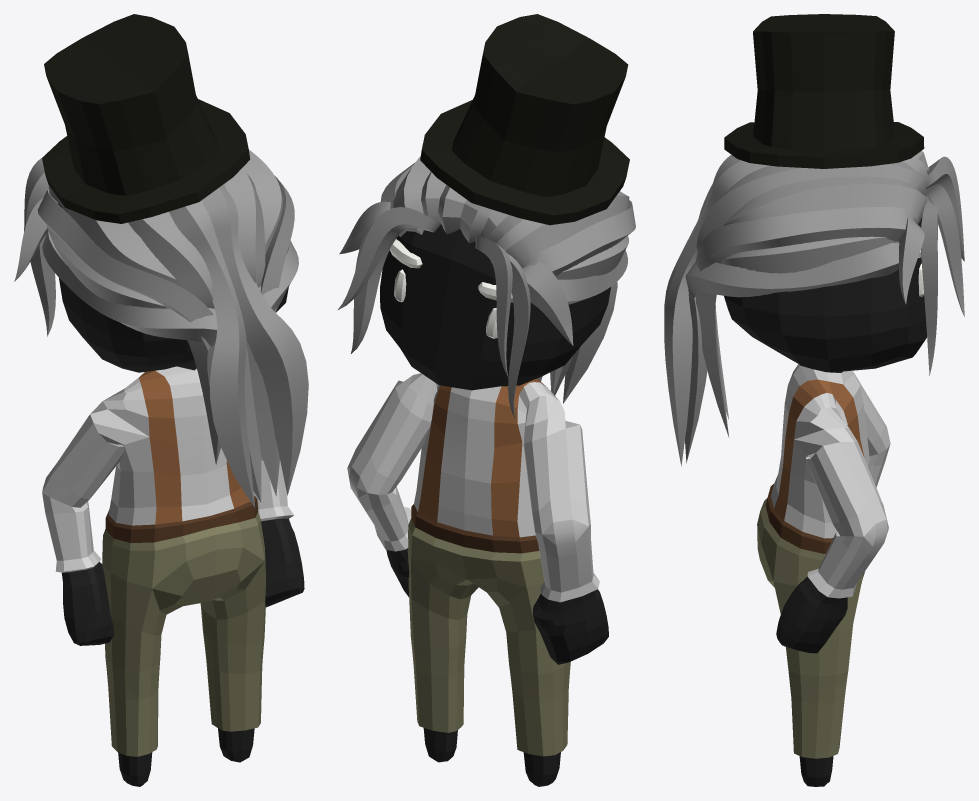
Rendered from Moun_OldClassy_Female_Stand.fbx.
The picture shows the model from 3 angles, left to right: view 1: azimuth 30°, elevation 25°; view 2: azimuth 150°, elevation 25°; view 3: azimuth 270°, elevation 25°; orthographic projection. The views are drawn at different scales.
Parts seen in each view (by area): view 1: Moun_OldClassy_Female_Stand; view 2: Moun_OldClassy_Female_Stand; view 3: Moun_OldClassy_Female_Stand.
Part boxes in pixels (<box>): Moun_OldClassy_Female_Stand: <box>14,14,308,786</box>; Moun_OldClassy_Female_Stand: <box>337,14,635,786</box>; Moun_OldClassy_Female_Stand: <box>664,14,964,786</box>.
Bounding box in the file's own units: 0.68 × 1.97 × 0.7396.
